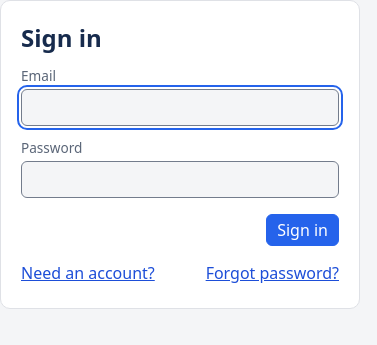
signing in › shows the error in an alert
Type "ana@example.com" into the field labelled "Email".
click(180, 108); type("ana@example.com")  # box [21,89,339,126]
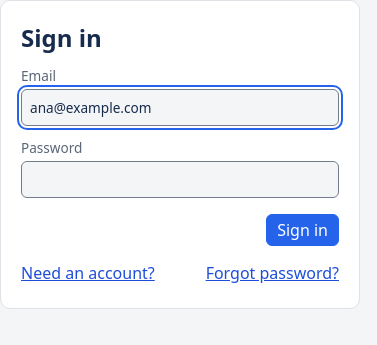
Type "secret123" into the password field labelled "Password".
click(180, 180); type("secret123")  # box [21,161,339,198]
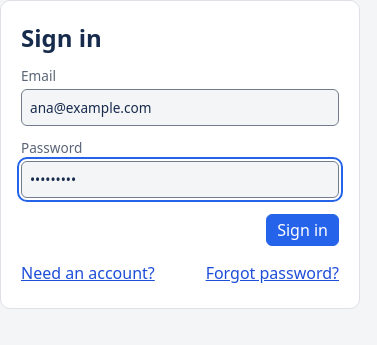
Click the button "Sign in".
click(303, 230)  # box [266,214,339,246]
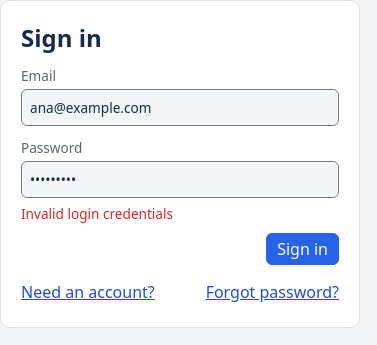
Now the message reads "Invalid login credentials", box [21,204,173,223]
